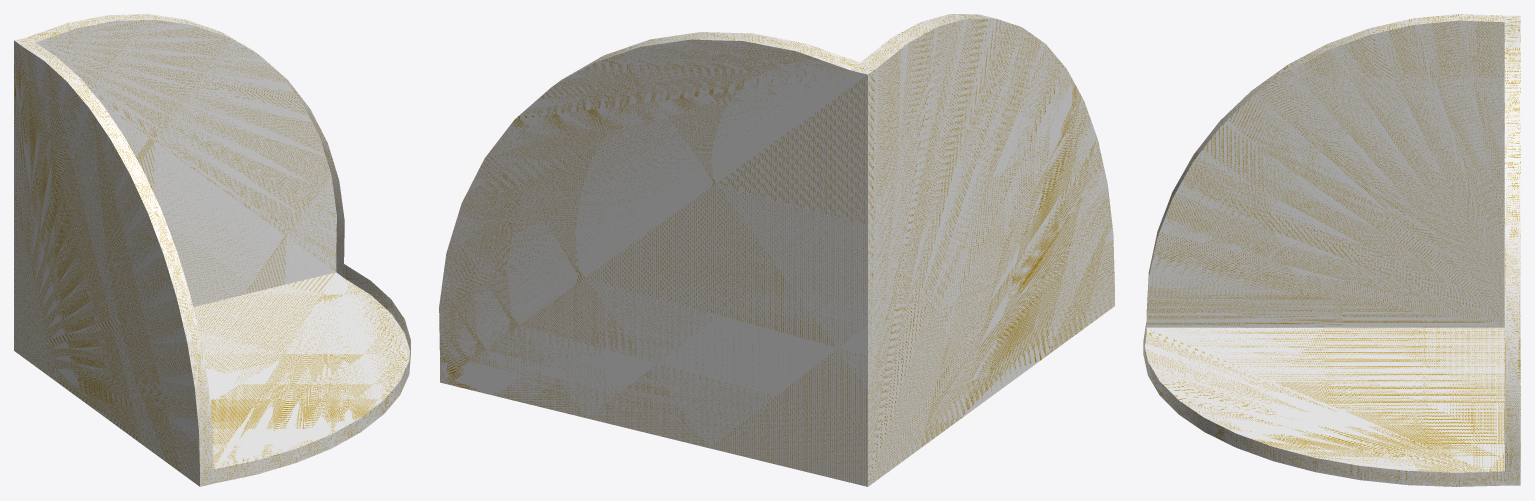
File: original-38.obj
3 views of the same model, side by side, from view 1: azimuth 30°, elevation 25°; view 2: azimuth 150°, elevation 25°; view 3: azimuth 270°, elevation 25° (orthographic). The views are drawn at different scales.
Visible parts, largest first — view 1: mesh33/mesh33-geometry/material_9/component_7#mesh33-geometry; view 2: mesh33/mesh33-geometry/material_9/component_7#mesh33-geometry; view 3: mesh33/mesh33-geometry/material_9/component_7#mesh33-geometry.
Part boxes in pixels (<box>): mesh33/mesh33-geometry/material_9/component_7#mesh33-geometry: <box>14,14,410,486</box>; mesh33/mesh33-geometry/material_9/component_7#mesh33-geometry: <box>439,14,1114,486</box>; mesh33/mesh33-geometry/material_9/component_7#mesh33-geometry: <box>1143,14,1520,486</box>.
Bounding box in the file's own units: 0.1158 × 0.1073 × 0.1158.
